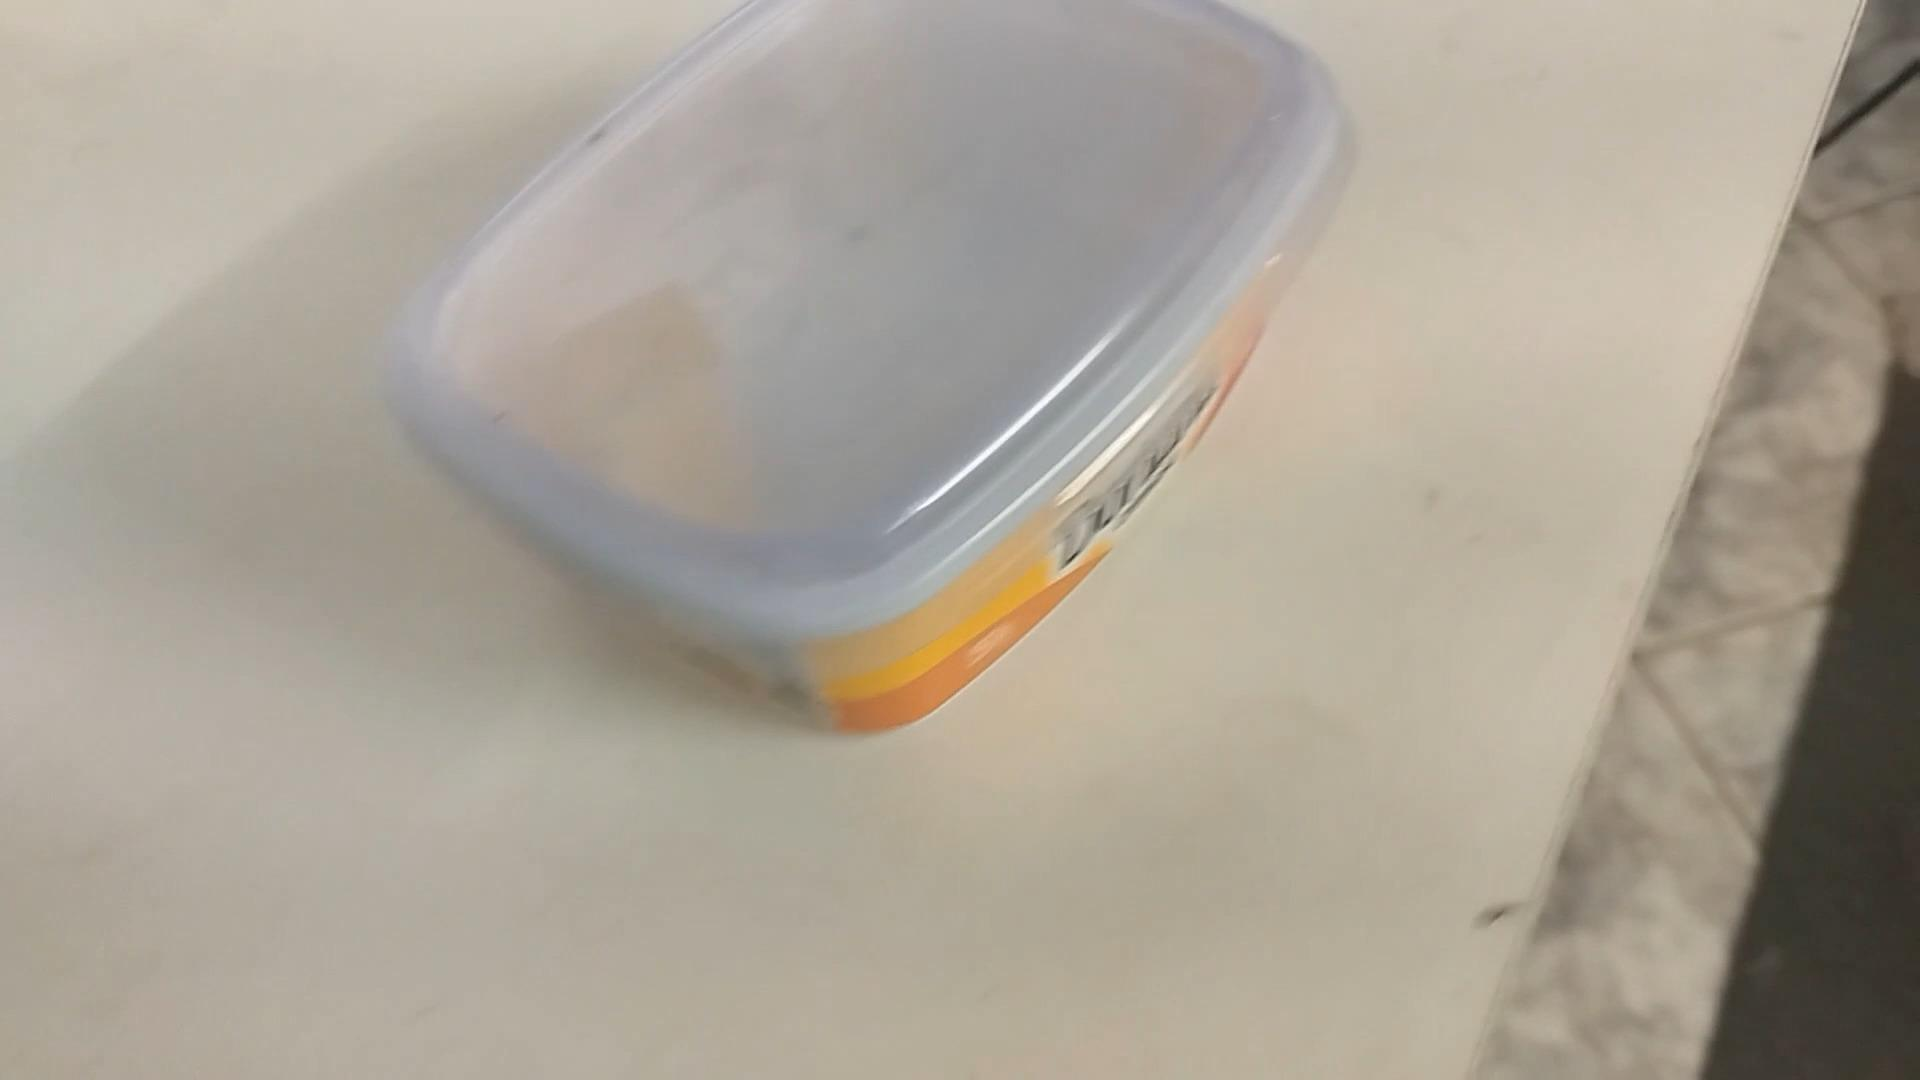butter: (375, 7, 1341, 744)
